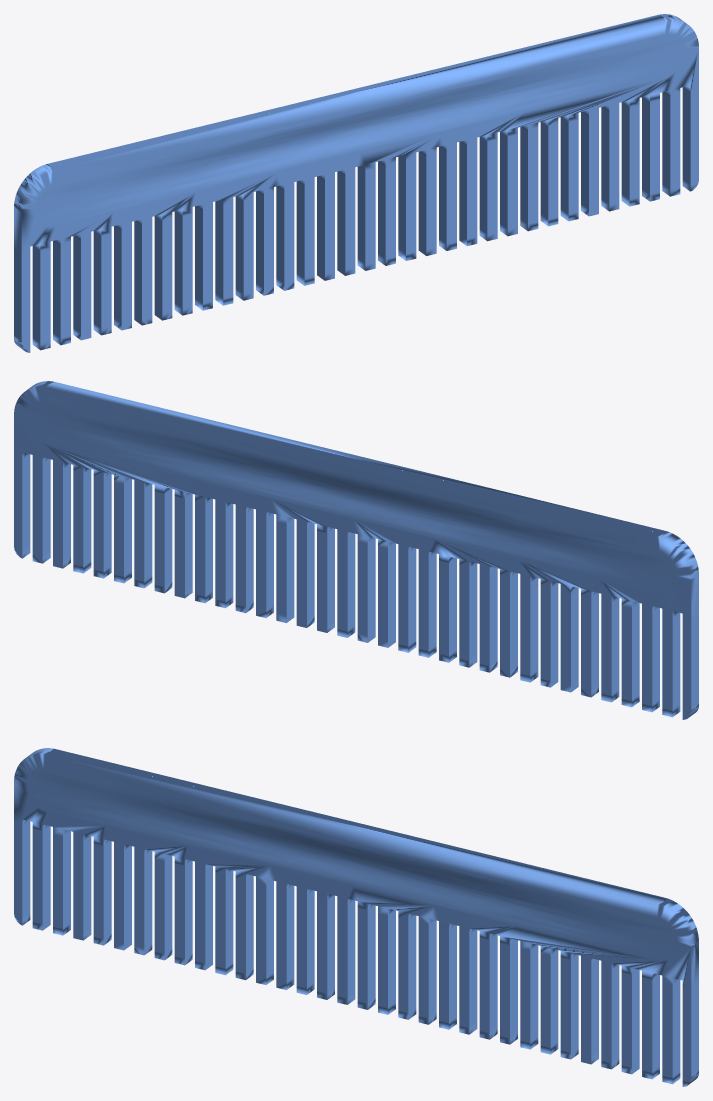
Rendered from comb.obj.
3 renders of one model, top to bottom at view 1: azimuth 30°, elevation 25°; view 2: azimuth 150°, elevation 25°; view 3: azimuth 330°, elevation 25°, orthographic.
Visible parts, largest first — view 1: comb:Mesh; view 2: comb:Mesh; view 3: comb:Mesh.
Boxes of the visible parts, x1,y1,x2,y2 form: comb:Mesh: (14, 14, 698, 352); comb:Mesh: (14, 381, 698, 719); comb:Mesh: (14, 748, 698, 1086).
Bounding box in the file's own units: 100 × 25 × 2.
